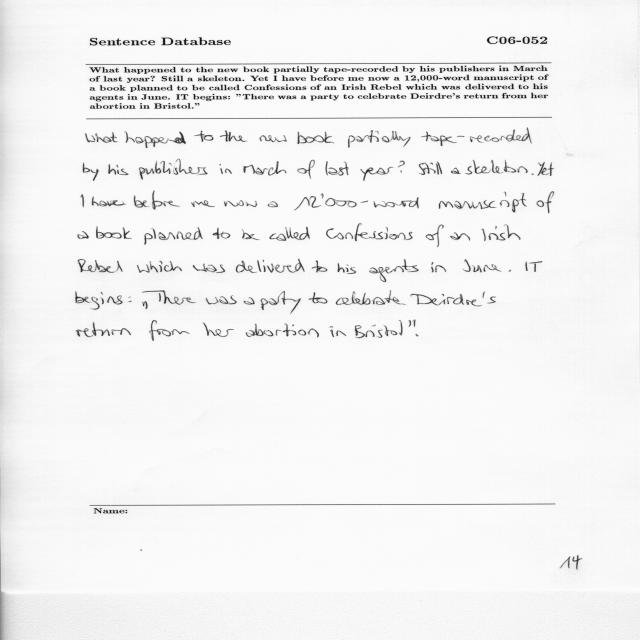word: (267, 194, 419, 211), (421, 128, 532, 146), (439, 192, 527, 213), (326, 223, 413, 241), (139, 159, 207, 180), (410, 292, 496, 306), (369, 259, 419, 282), (348, 130, 410, 148), (144, 227, 203, 245), (124, 131, 186, 148), (336, 290, 406, 305), (142, 291, 196, 310), (246, 324, 319, 338), (236, 259, 305, 273), (260, 291, 301, 314), (465, 160, 528, 174), (134, 191, 180, 210), (355, 320, 403, 338), (76, 292, 123, 310), (149, 320, 189, 341), (76, 322, 131, 337), (481, 225, 520, 242), (244, 161, 287, 176), (78, 259, 123, 273), (269, 226, 310, 241), (137, 261, 182, 273), (463, 259, 501, 273), (96, 226, 132, 239), (361, 167, 394, 181), (297, 132, 334, 144), (425, 225, 444, 248), (203, 323, 234, 337), (537, 191, 555, 213), (86, 132, 118, 143), (326, 161, 349, 176), (297, 160, 315, 179), (92, 197, 126, 207), (220, 130, 248, 142), (206, 295, 237, 305), (83, 162, 99, 181), (419, 162, 442, 175), (193, 264, 225, 273), (537, 162, 554, 176), (309, 292, 328, 304), (194, 131, 214, 142), (108, 164, 128, 175), (338, 263, 357, 274), (213, 228, 231, 239), (259, 135, 287, 142), (526, 261, 543, 272), (330, 326, 347, 337), (242, 230, 260, 240), (450, 232, 470, 241), (191, 200, 215, 207), (312, 261, 327, 272), (431, 262, 446, 272), (224, 200, 244, 207), (219, 164, 232, 174), (413, 320, 419, 337), (78, 231, 89, 239), (244, 297, 255, 305), (398, 161, 405, 173), (246, 201, 257, 207), (451, 168, 461, 174), (81, 195, 84, 208), (408, 320, 411, 327), (509, 270, 511, 272), (531, 174, 534, 175), (129, 301, 132, 302), (129, 297, 131, 298)
